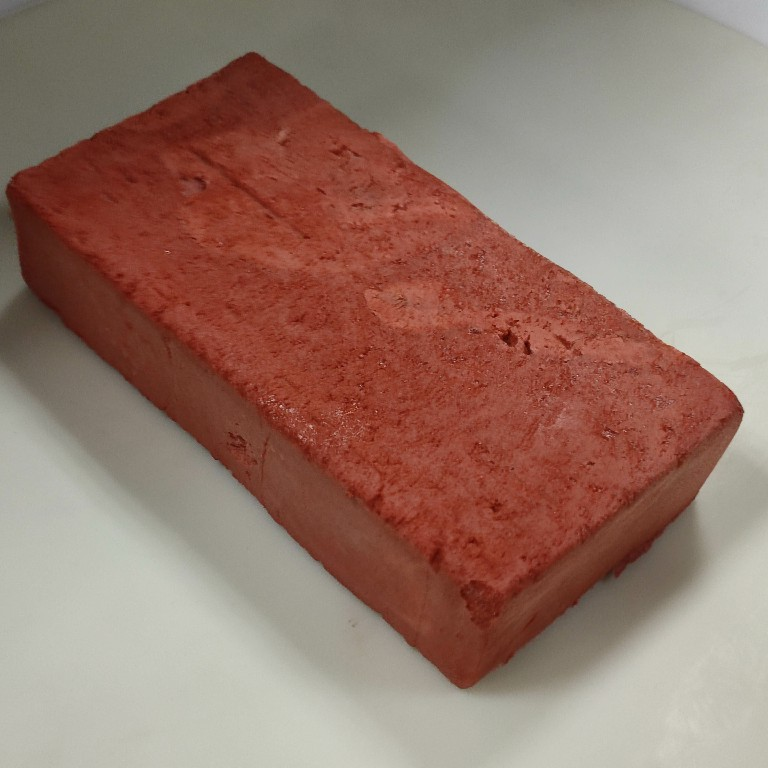brick: (4, 48, 748, 696)
